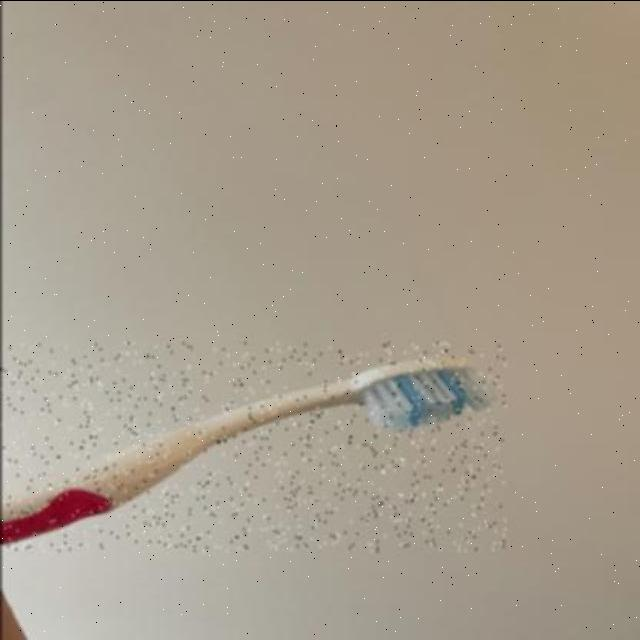toothbrush: (0, 342, 504, 550)
